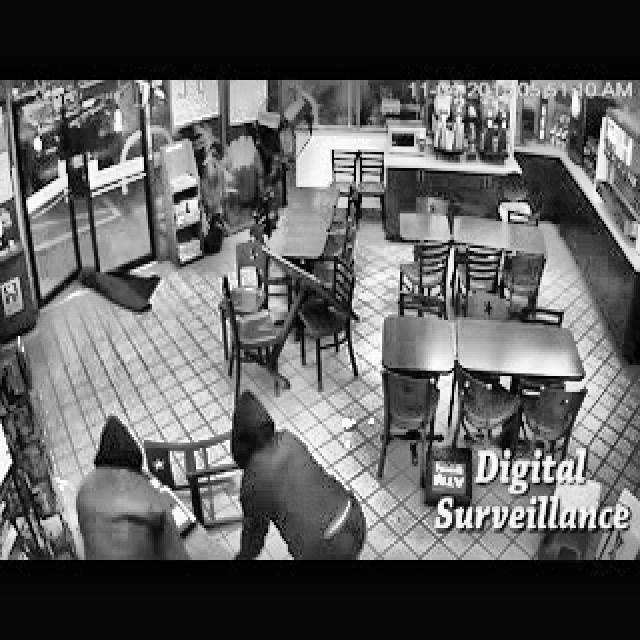burglary: (220, 384, 372, 560), (68, 402, 198, 560)
